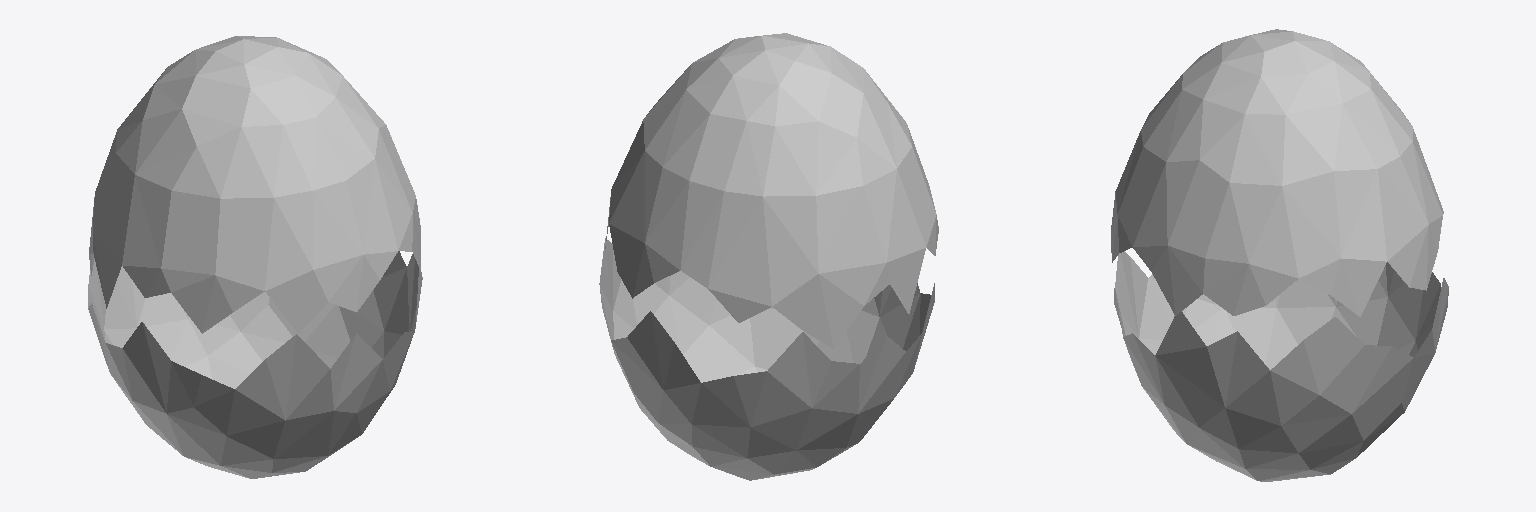
Rendered from eggshell.obj.
The picture shows the model from 3 angles: view 1: azimuth 30°, elevation 25°; view 2: azimuth 150°, elevation 25°; view 3: azimuth 270°, elevation 25°; orthographic projection.
Parts seen in each view (by area): view 1: Sphere.001_Sphere.005, Sphere.002; view 2: Sphere.001_Sphere.005, Sphere.002; view 3: Sphere.001_Sphere.005, Sphere.002.
Part boxes in pixels (bbox=[...]): Sphere.001_Sphere.005: bbox=[89, 36, 420, 333]; Sphere.002: bbox=[88, 251, 422, 478]; Sphere.001_Sphere.005: bbox=[605, 33, 938, 348]; Sphere.002: bbox=[599, 238, 934, 480]; Sphere.001_Sphere.005: bbox=[1111, 29, 1443, 316]; Sphere.002: bbox=[1114, 251, 1448, 481].
Bounding box in the file's own units: 0.1766 × 0.2453 × 0.1769.